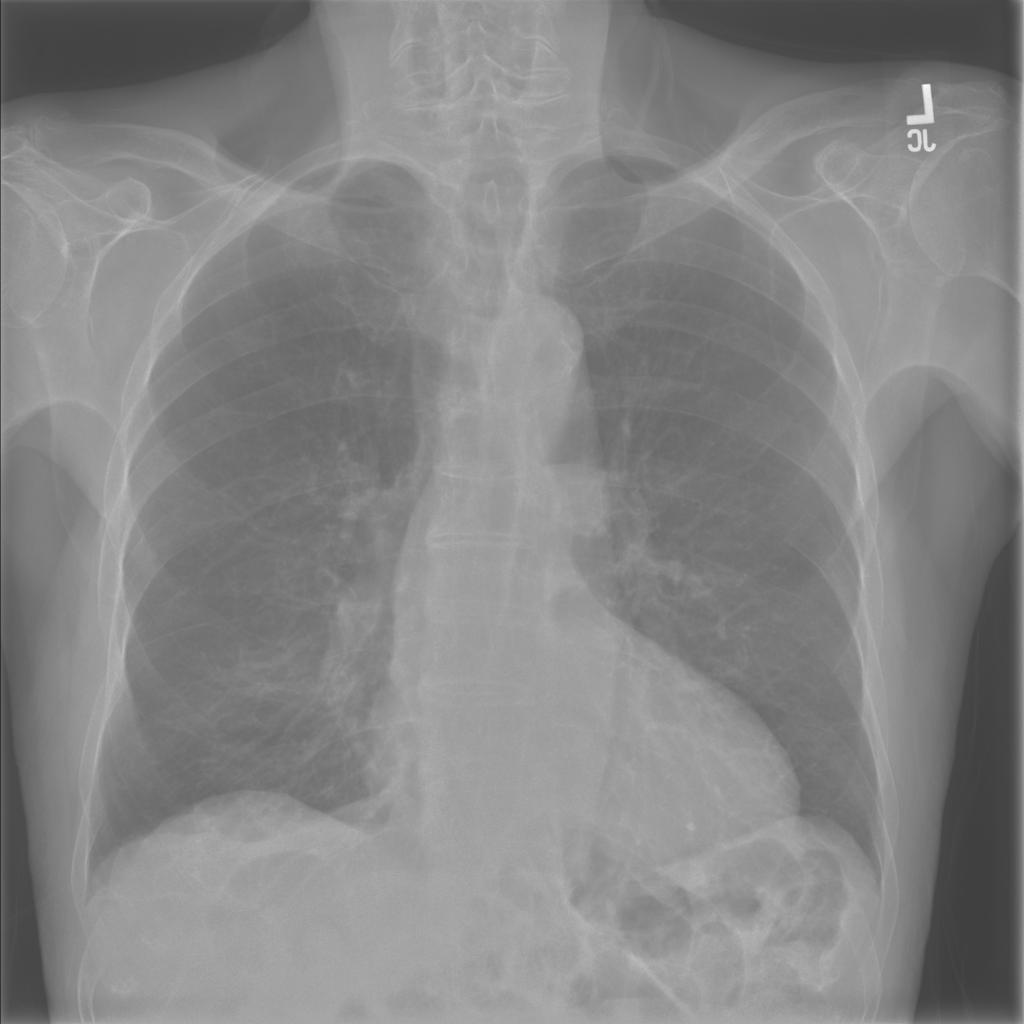Nodule: (119, 337, 141, 358)
